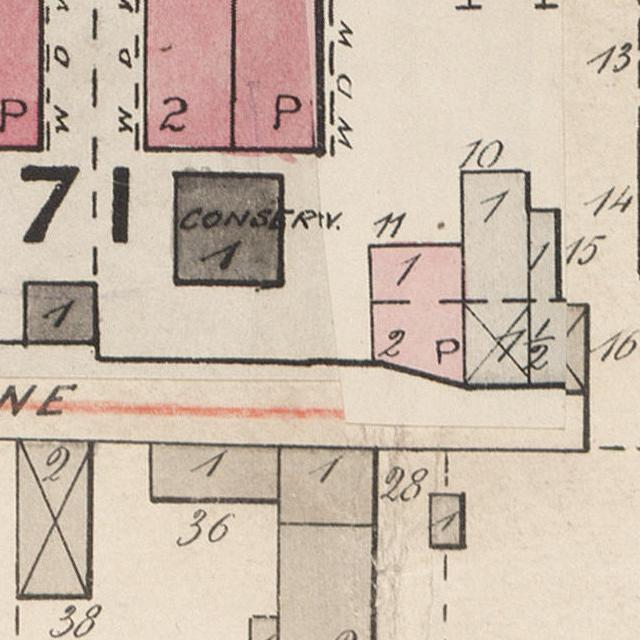building-footprints: (145, 0, 319, 152), (462, 172, 529, 387), (370, 245, 465, 387), (176, 175, 282, 284), (18, 440, 91, 597), (278, 524, 375, 640), (529, 210, 587, 387), (150, 443, 279, 502), (279, 446, 375, 525), (25, 284, 95, 342), (431, 495, 463, 545), (250, 617, 278, 640)
